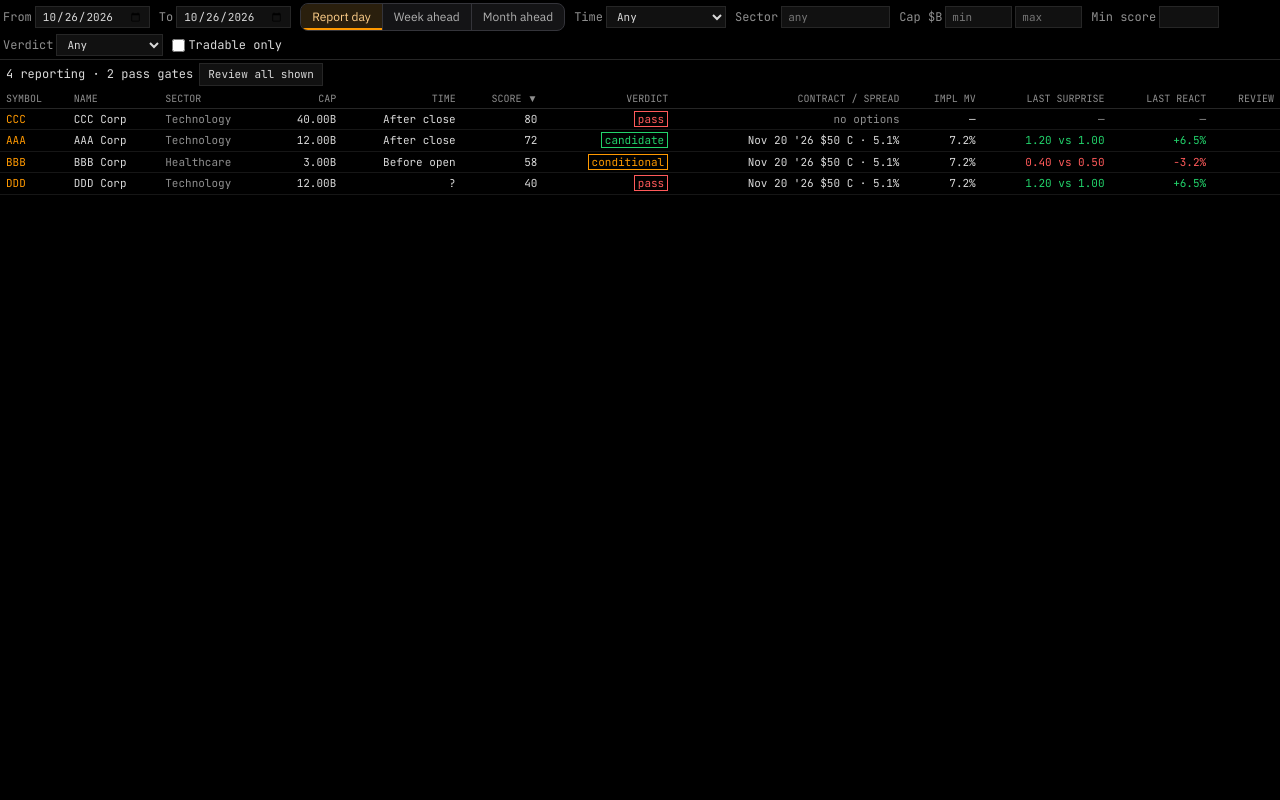
EarningsTab › handles a 402 from review-all by disabling reviews with the reason
Expected: the button "AAA" is shown, [6, 132, 26, 148]
Step 1. Click the button "Review all shown" → (261, 74), box [199, 63, 323, 86]
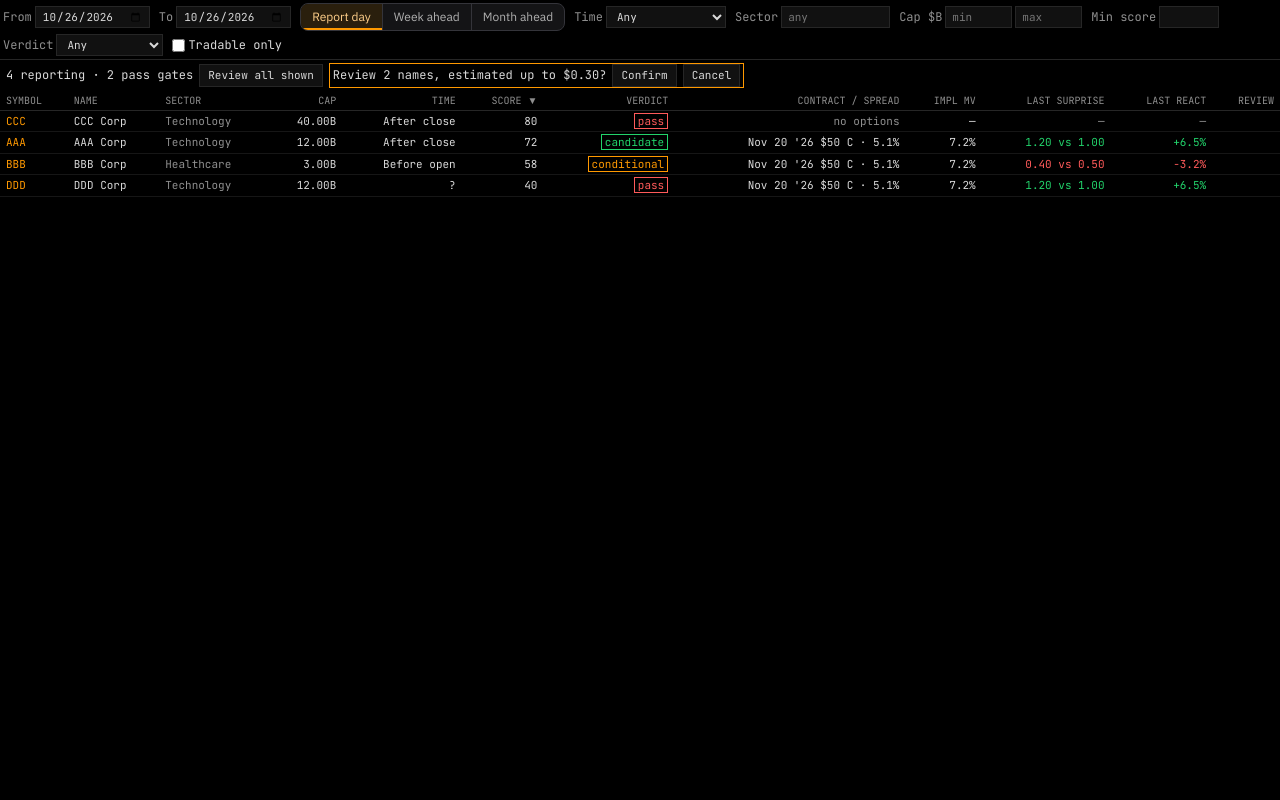
Step 2. Click the button "Confirm" → (645, 75), box [612, 64, 677, 86]
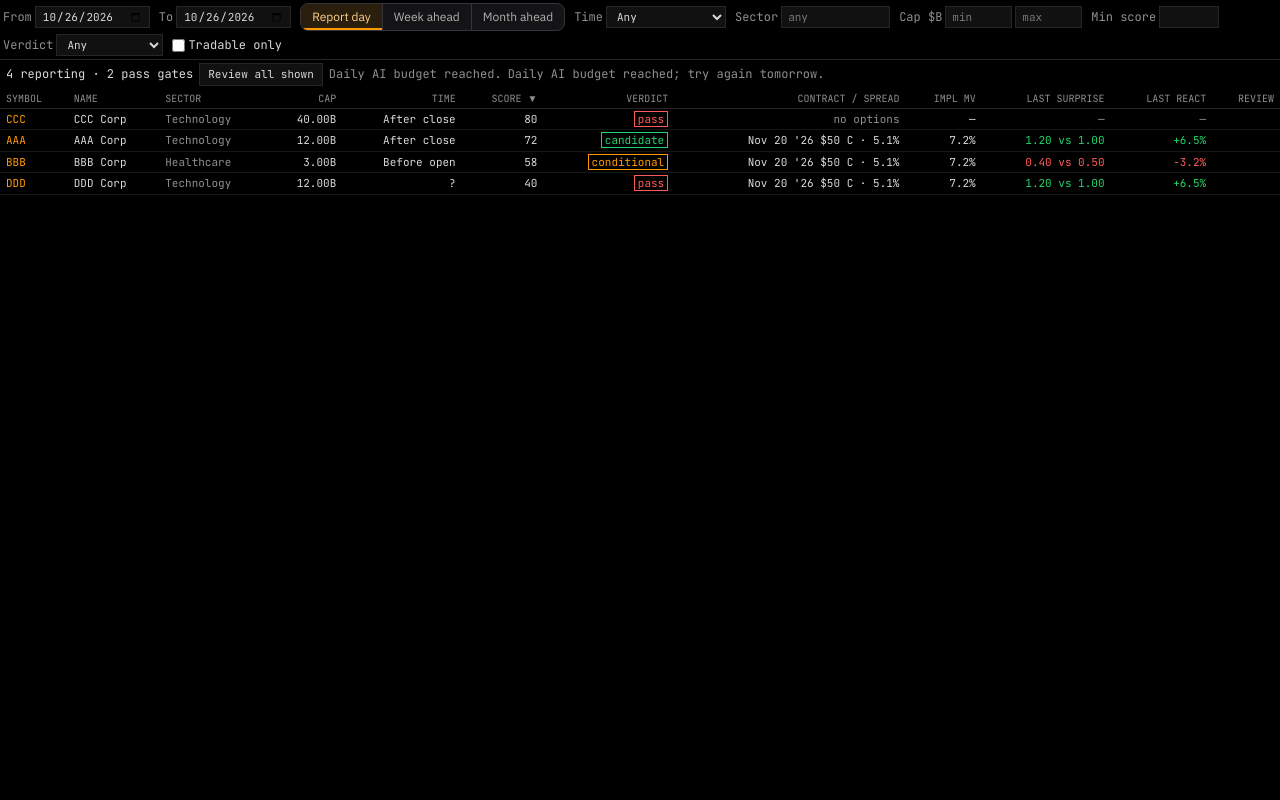
Expected: the button "Review all shown" is disabled, [199, 63, 323, 86]
Expected: the text "Daily AI budget reached; try again tomorrow." is shown, [508, 65, 824, 83]
Expected: the text "Daily AI budget reached." is shown, [329, 65, 502, 83]
Step 3. Click the row with test id "row-AAA" → (640, 140), box [0, 130, 1279, 151]
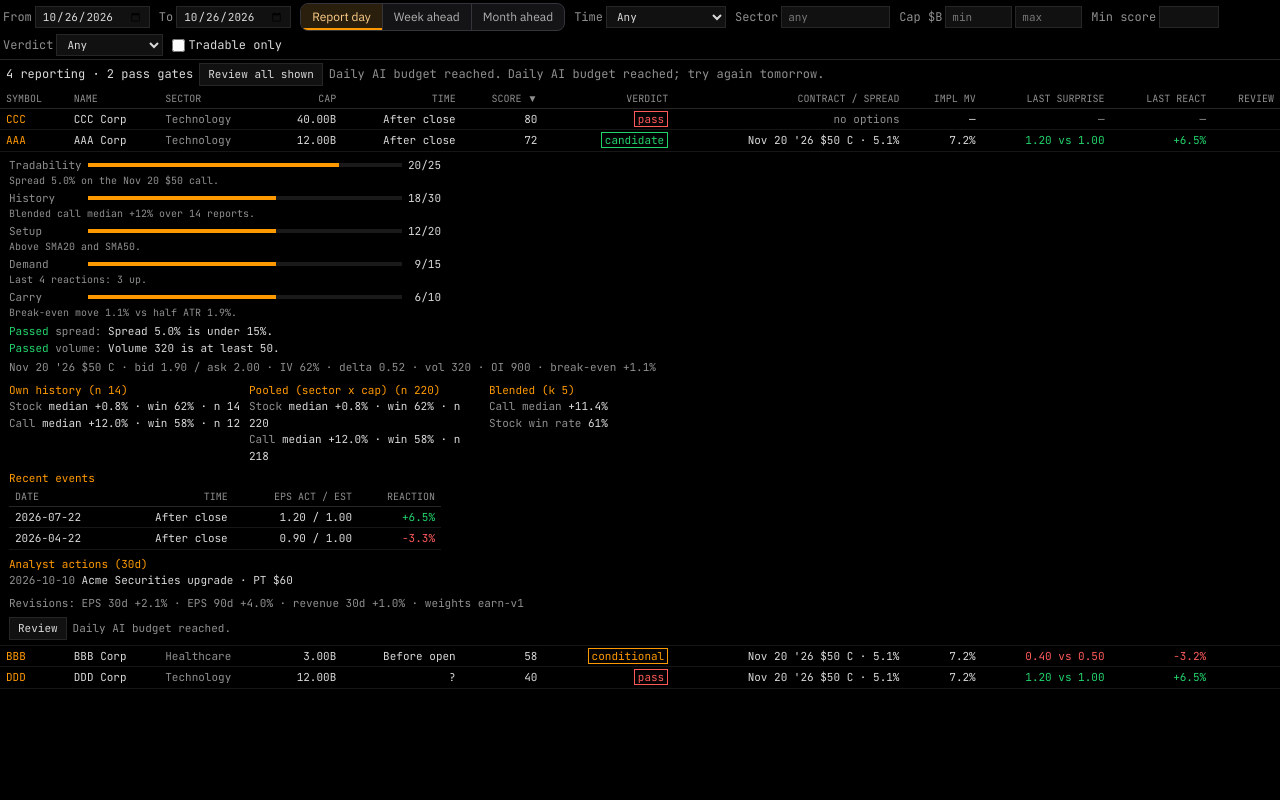
Expected: the button "Review" is disabled, [9, 617, 67, 640]
